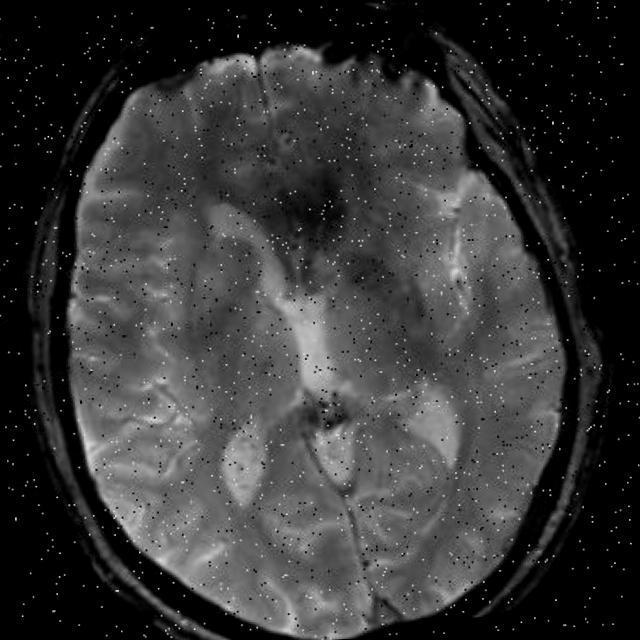CN: (394, 362, 489, 489), (204, 424, 290, 560), (431, 160, 497, 280)
